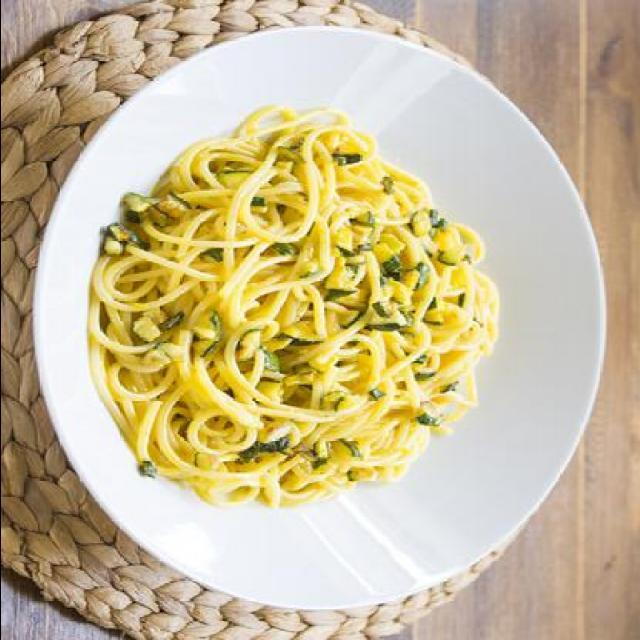Pasta with carbonara sauce: (83, 92, 489, 566)
